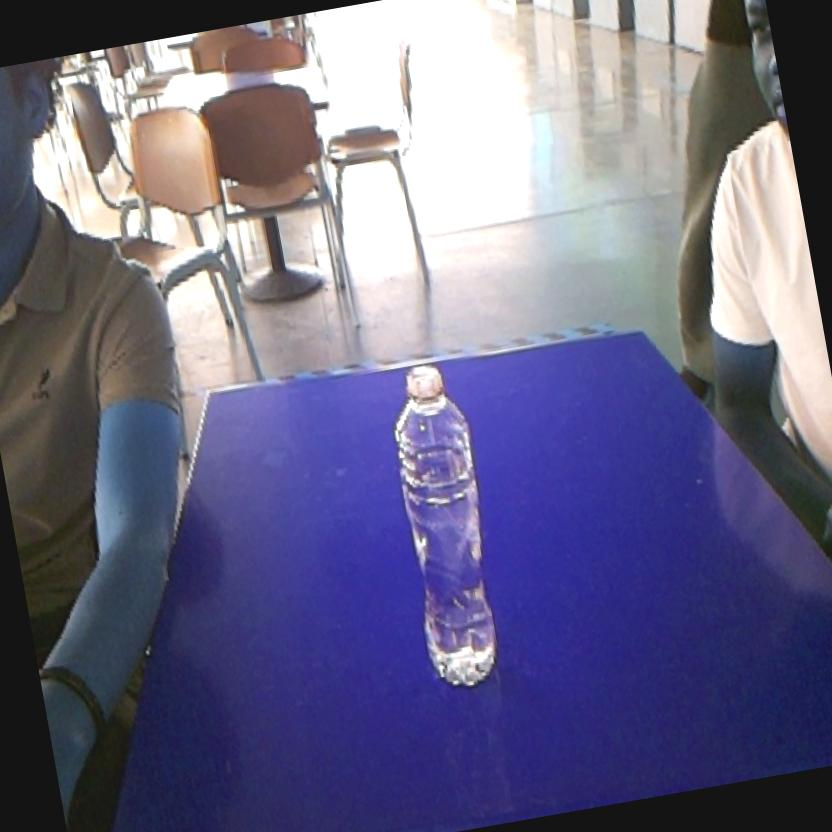no_cap: (371, 350, 520, 698)
